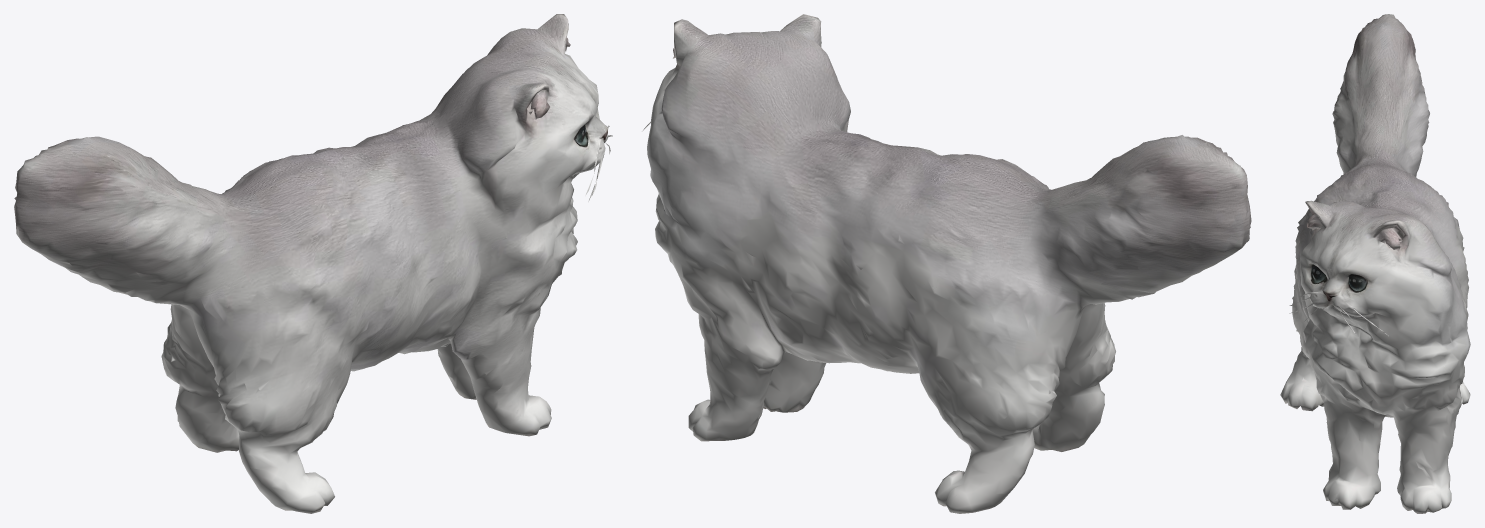
File: KEEPSAKE.glb
The picture shows the model from 3 angles, left to right: view 1: azimuth 30°, elevation 25°; view 2: azimuth 150°, elevation 25°; view 3: azimuth 270°, elevation 25°; orthographic projection. The views are drawn at different scales.
Visible parts, largest first — view 1: tripo_node_f10c5332-1c32-4b2f-8841-8c94186c3aed; view 2: tripo_node_f10c5332-1c32-4b2f-8841-8c94186c3aed; view 3: tripo_node_f10c5332-1c32-4b2f-8841-8c94186c3aed.
Part boxes in pixels (x1=…): tripo_node_f10c5332-1c32-4b2f-8841-8c94186c3aed: x1=14, y1=14, x2=612, y2=513; tripo_node_f10c5332-1c32-4b2f-8841-8c94186c3aed: x1=642, y1=14, x2=1251, y2=513; tripo_node_f10c5332-1c32-4b2f-8841-8c94186c3aed: x1=1280, y1=14, x2=1470, y2=513.
Size of the model in its own units: 1.65 by 1 by 0.5561.
1 material, 1 textured.
